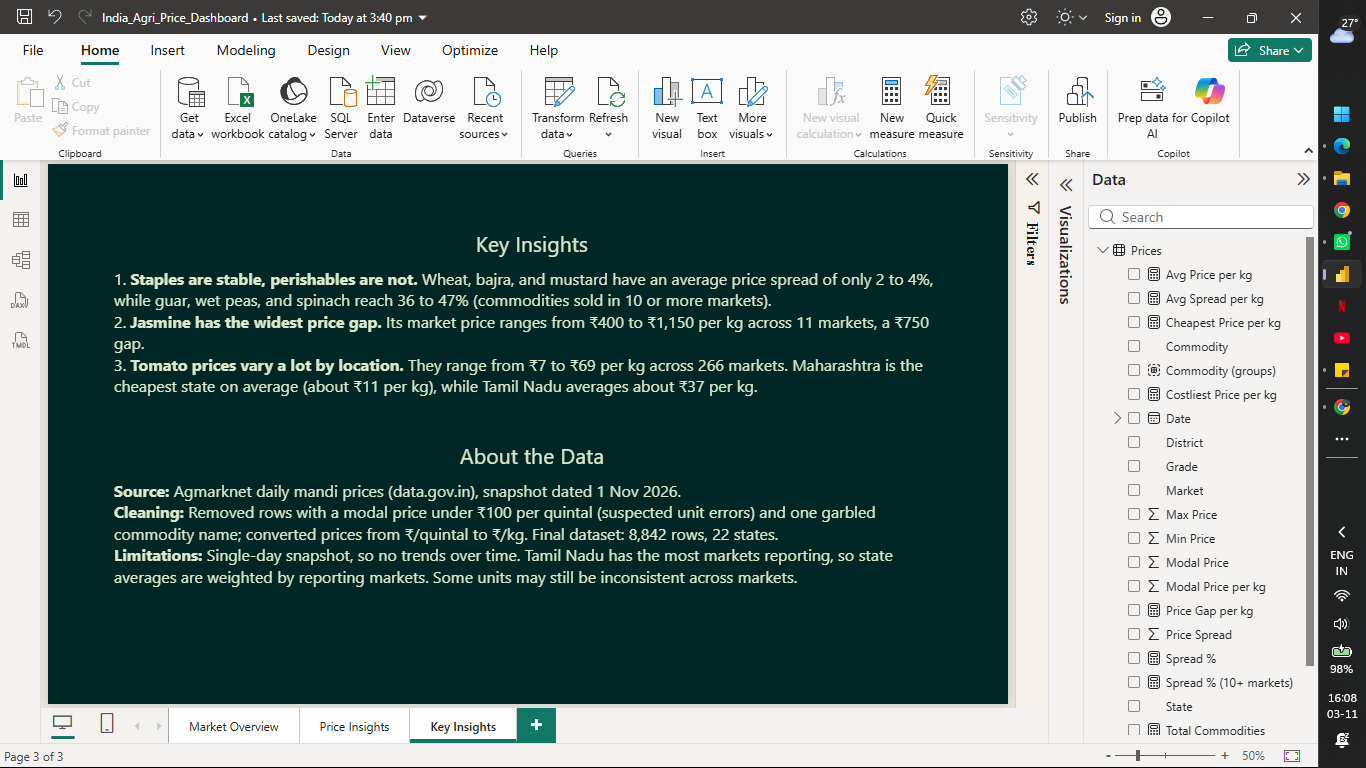

What the dashboard file says about the page in this screenshot:
{"tool":"powerbi","page":{"name":"Key Insights","canvas":[1920,1080],"ordinal":2},"visuals":[{"type":"textbox","box":[132,116,1672,424],"z":0},{"type":"textbox","box":[132,540,1672,440],"z":1000}]}

Visuals, with their boxes on the page's 1920x1080 design canvas (x1, y1, x2, y2). These are canvas units, not pixel positions in the 1366x768 screenshot, which may show the page scaled, cropped or inside an application window:
textbox: [132,116,1804,540]
textbox: [132,540,1804,980]
